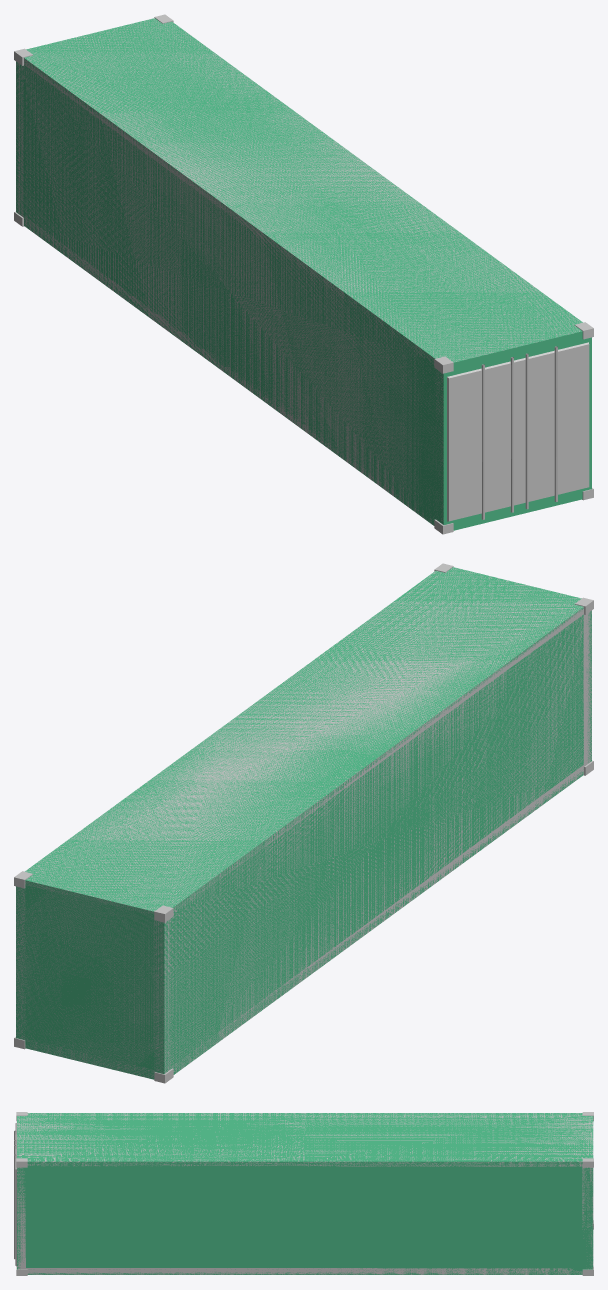
The model's file is container_01_a.dae.
The picture shows the model from 3 angles, top to bottom: view 1: azimuth 30°, elevation 25°; view 2: azimuth 150°, elevation 25°; view 3: azimuth 270°, elevation 25°; orthographic projection. The views are drawn at different scales.
Parts seen in each view (by area): view 1: Colmesh-1, ind_bld_a300, ind_bld_a20; view 2: Colmesh-1, ind_bld_a300, ind_bld_a20; view 3: Colmesh-1, ind_bld_a300.
Part boxes in pixels (x1,y1,x2,y2): Colmesh-1: (16,18,591,530); ind_bld_a300: (14,14,593,534); ind_bld_a20: (16,59,442,520); Colmesh-1: (16,567,591,1079); ind_bld_a300: (14,563,593,1083); ind_bld_a20: (16,608,591,1071); Colmesh-1: (17,1113,593,1274); ind_bld_a300: (14,1112,593,1275).
Size of the model in its own units: 2.45 by 12.08 by 2.62.
